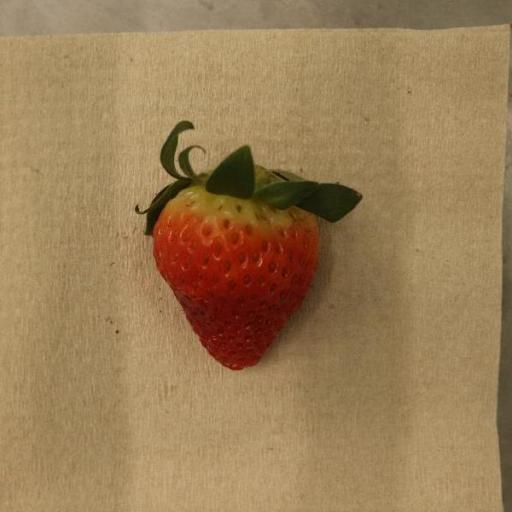Strawberry: (136, 121, 364, 372)
